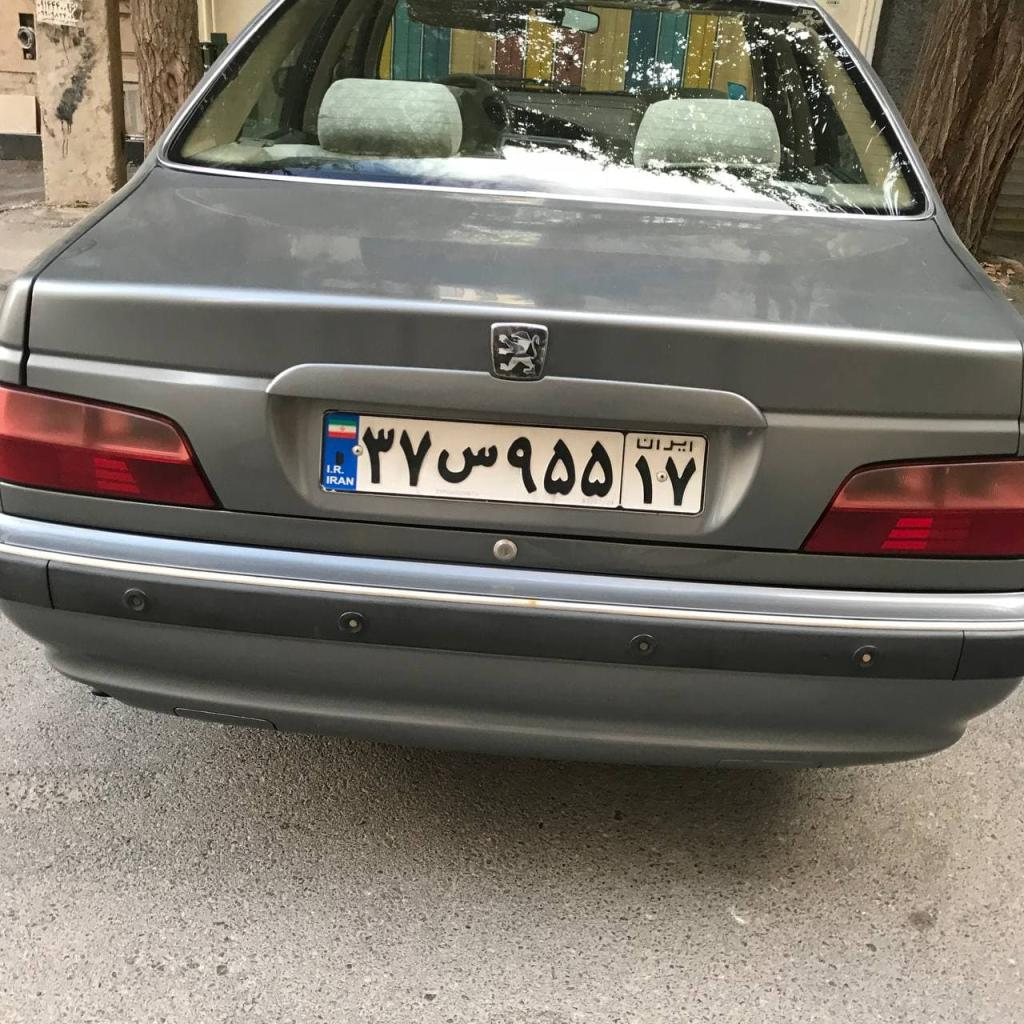Plates: (319, 409, 707, 514)
